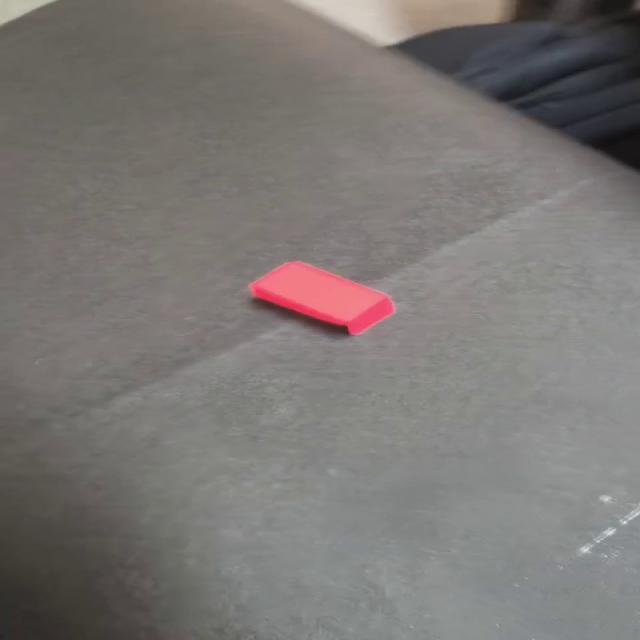red block: (247, 259, 396, 336)
